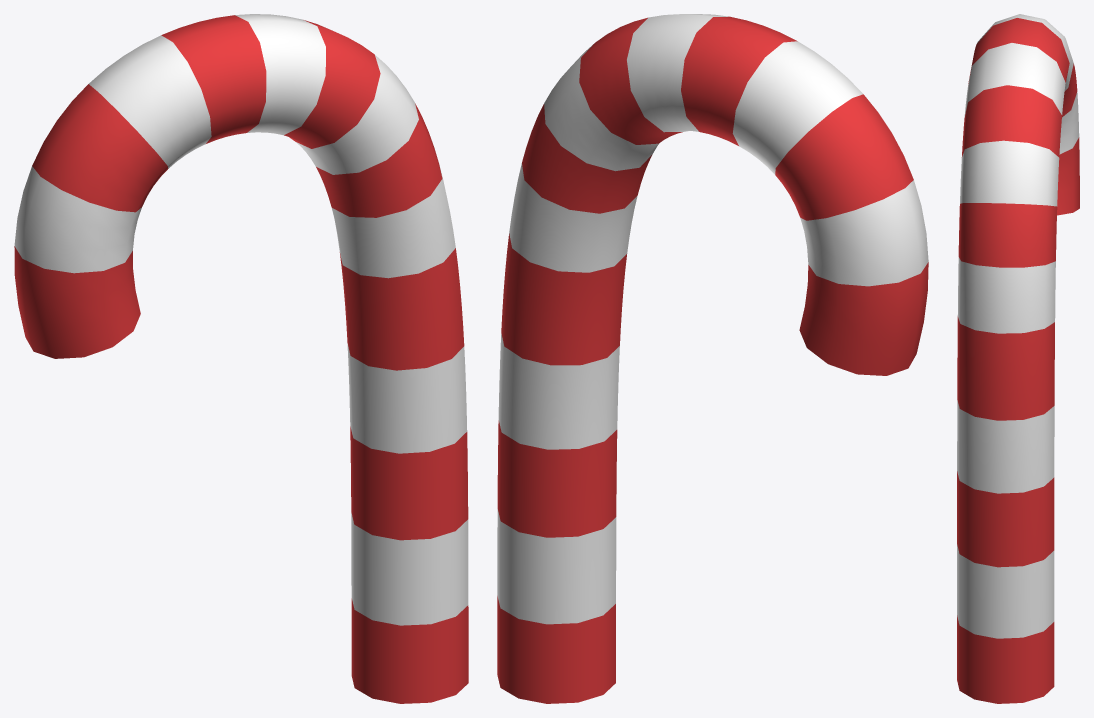
The model's file is Lollipop 1.fbx.
The picture shows the model from 3 angles, left to right: view 1: azimuth 30°, elevation 25°; view 2: azimuth 150°, elevation 25°; view 3: azimuth 270°, elevation 25°; orthographic projection. The views are drawn at different scales.
Parts seen in each view (by area): view 1: red white; view 2: red white; view 3: red white.
Part boxes in pixels (left/top/right/bottom): red white: left=14, top=14, right=468, bottom=703; red white: left=497, top=14, right=928, bottom=703; red white: left=957, top=14, right=1079, bottom=703.
Bounding box in the file's own units: 330 × 517 × 99.76.
